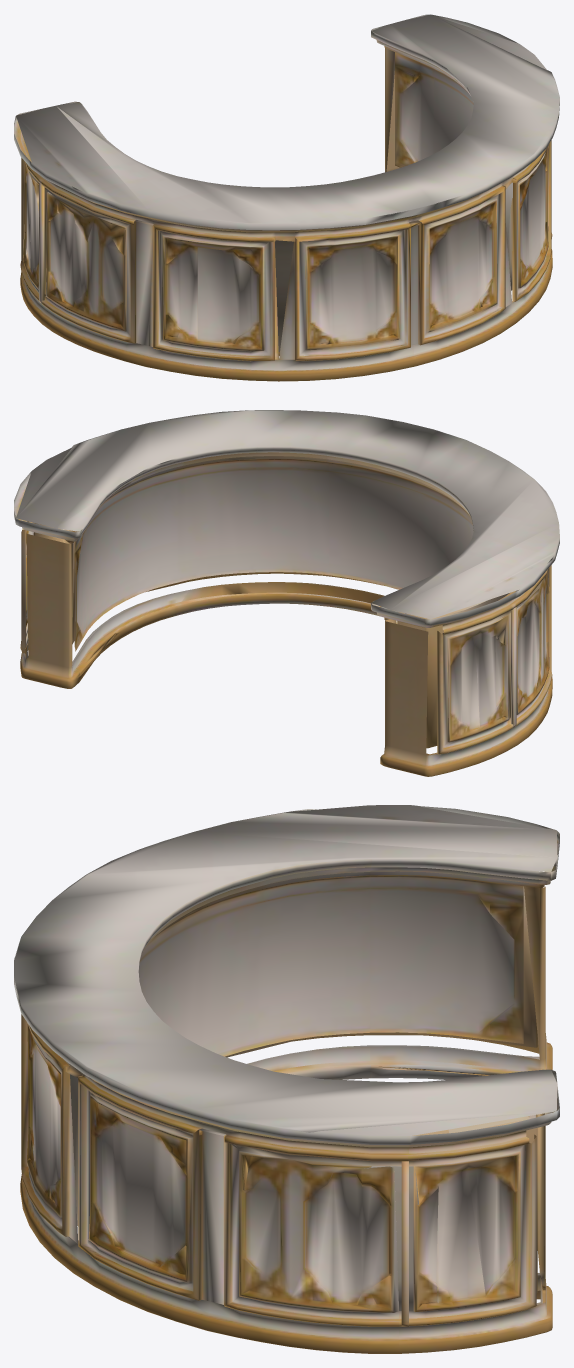
File: fancy_reception_desk_58fde71d_v4.glb
3 views of the same model, one above another, from view 1: azimuth 30°, elevation 25°; view 2: azimuth 150°, elevation 25°; view 3: azimuth 270°, elevation 25° (orthographic). The views are drawn at different scales.
Visible parts, largest first — view 1: material; view 2: material; view 3: material.
Boxes of the visible parts, x1=… form: material: x1=14, y1=14, x2=559, y2=381; material: x1=14, y1=410, x2=559, y2=776; material: x1=14, y1=805, x2=559, y2=1353.
Bounding box in the file's own units: 1.9 × 0.5977 × 1.33.
1 material, 1 textured.
